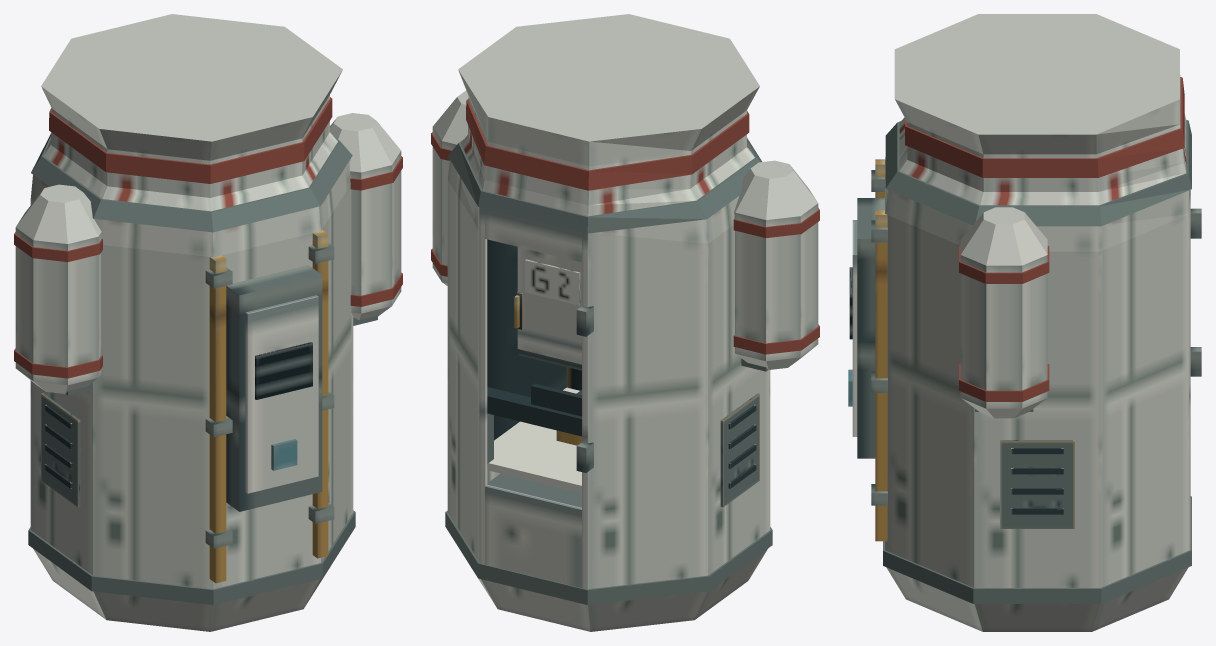
The model's file is rocket_body_tier_2.obj.
The picture shows the model from 3 angles, left to right: view 1: azimuth 30°, elevation 25°; view 2: azimuth 150°, elevation 25°; view 3: azimuth 270°, elevation 25°; orthographic projection.
Visible parts, largest first — view 1: Body; view 2: Body, Hatch; view 3: Body.
Boxes of the visible parts, x1=… form: Body: x1=14, y1=14, x2=402, y2=631; Body: x1=431, y1=14, x2=819, y2=631; Hatch: x1=514, y1=247, x2=581, y2=370; Body: x1=848, y1=14, x2=1201, y2=631.
Size of the model in its own units: 1.96 by 2.5 by 1.59.
